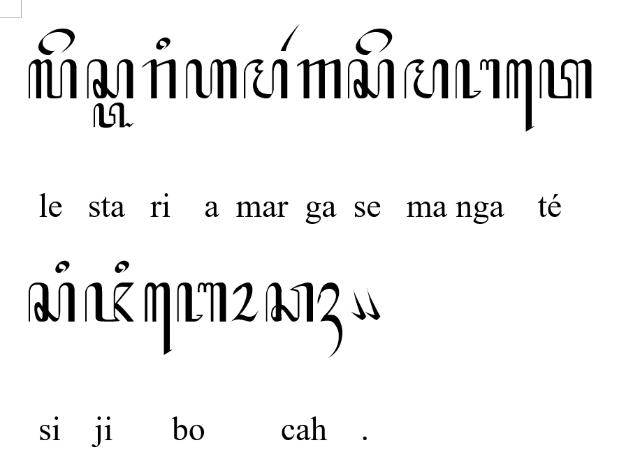_h1: (318, 282, 342, 359)
_r1: (280, 24, 300, 52)
_t: (93, 103, 135, 129)
b: (176, 282, 228, 324)
c: (264, 282, 314, 322)
e: (37, 27, 74, 55), (356, 27, 392, 55)
e1: (144, 282, 172, 356), (506, 60, 534, 132)
g: (297, 59, 341, 99)
h: (185, 59, 238, 99)
i: (156, 36, 170, 50), (56, 260, 70, 274), (115, 260, 129, 274)
j: (85, 282, 135, 324)
kom: (350, 289, 366, 321), (366, 289, 380, 321)
l: (28, 59, 78, 99)
m: (242, 59, 288, 99), (404, 59, 448, 99)
nga: (454, 58, 500, 100)
o: (231, 283, 259, 323)
r: (142, 58, 176, 100)
s: (347, 58, 395, 100), (27, 282, 75, 324), (86, 59, 134, 99)
t: (538, 58, 592, 100)
